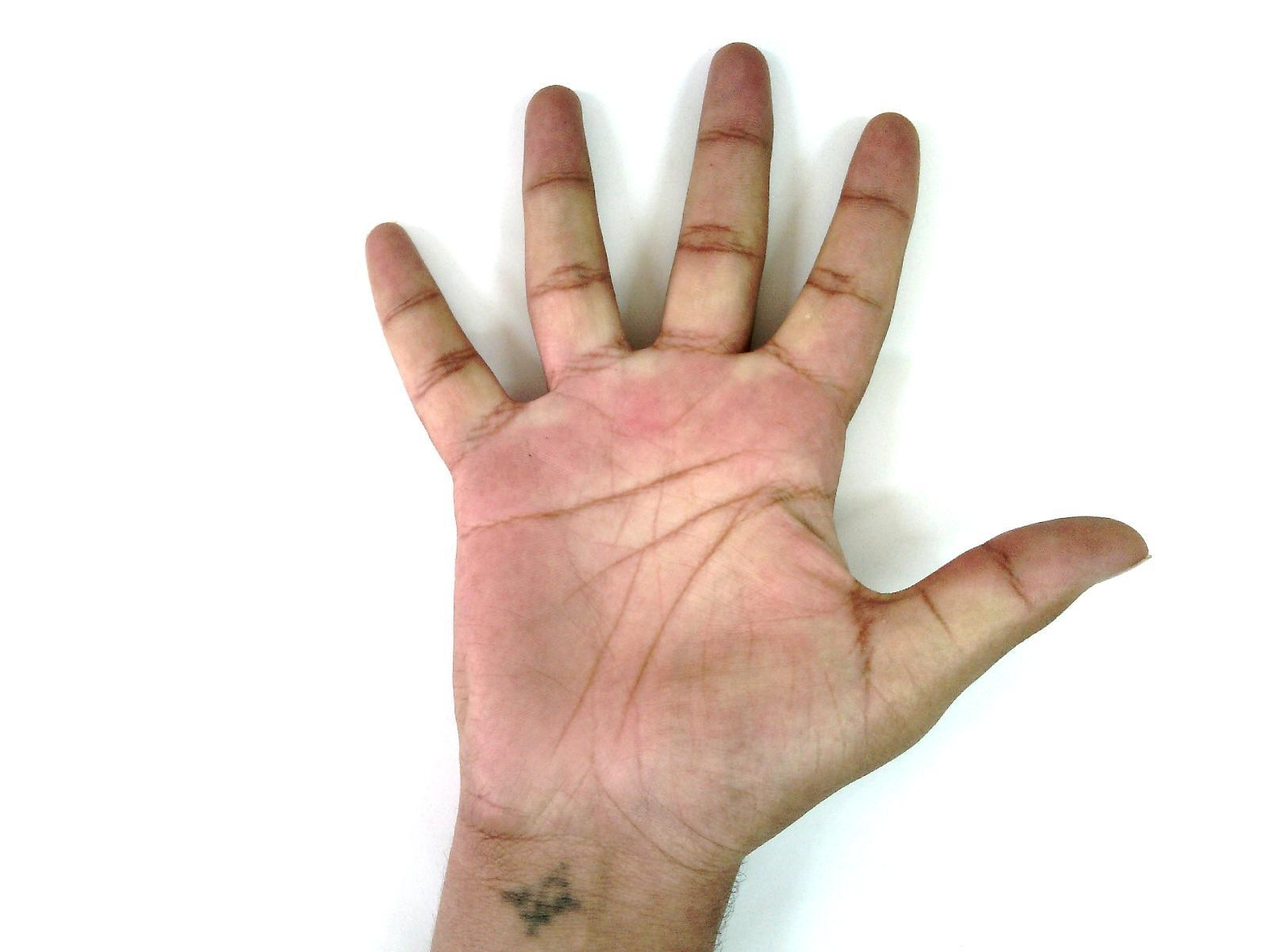open_palm: (361, 40, 1155, 877)
